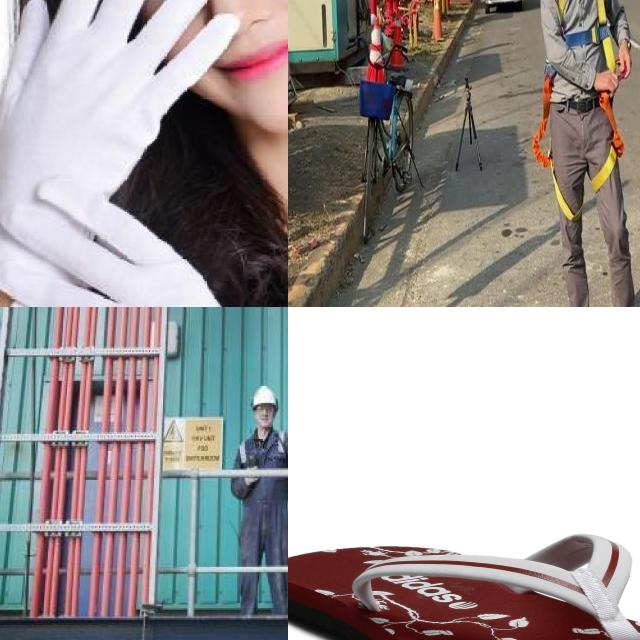Harness: (532, 65, 582, 222), (558, 0, 615, 70), (592, 93, 625, 194)
Sandals: (288, 531, 640, 640)
face_nomask: (110, 0, 288, 113), (254, 402, 275, 426)
hand_glove: (0, 0, 241, 250), (0, 175, 273, 307)
head_helmet: (249, 383, 279, 411)
person: (0, 0, 288, 307), (229, 381, 288, 620)
